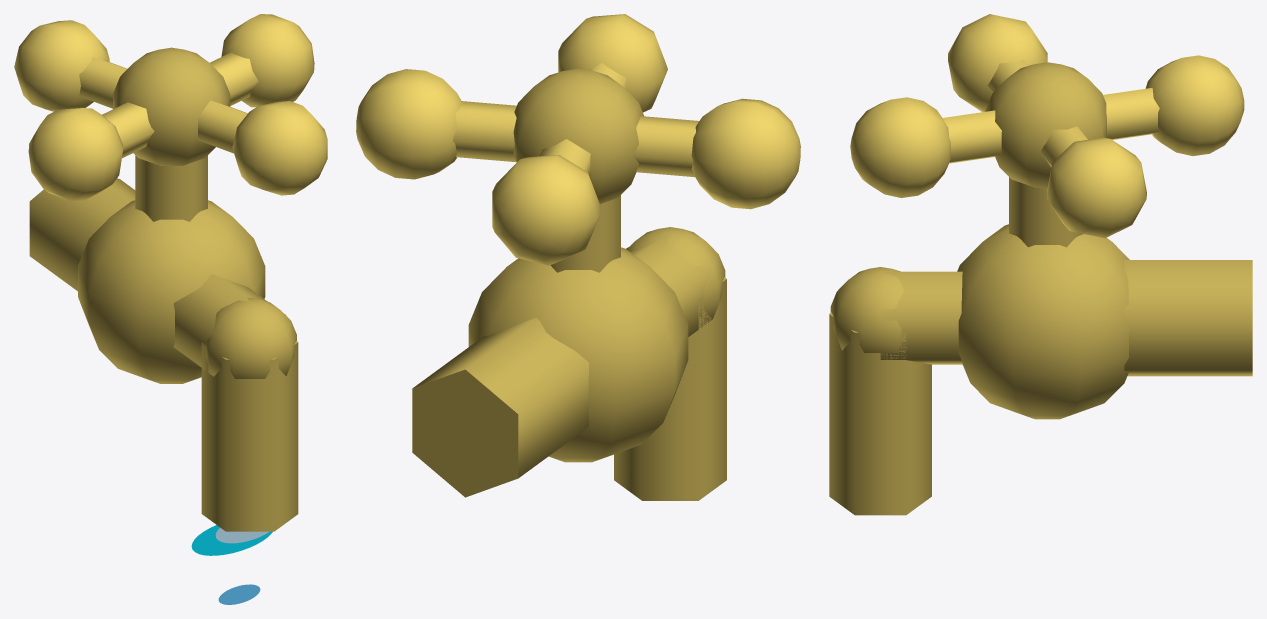
Rendered from tap.gltf.
3 views of the same model, side by side, from view 1: azimuth 30°, elevation 25°; view 2: azimuth 150°, elevation 25°; view 3: azimuth 270°, elevation 25° (orthographic). The views are drawn at different scales.
Bounding box in the file's own units: 0.3685 × 0.549 × 0.396.
